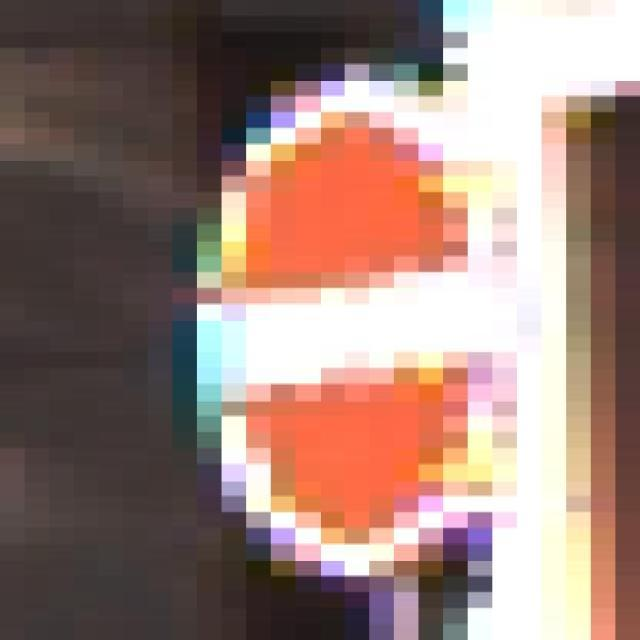B2: (212, 89, 490, 557)
